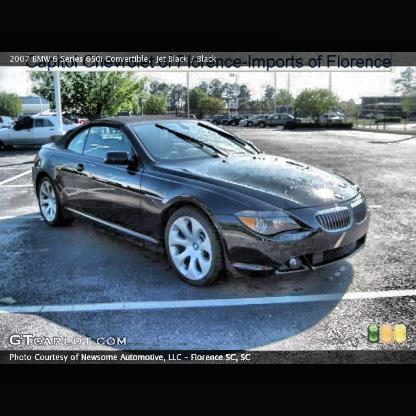BMW 6 Series Convertible 2007: (34, 117, 368, 286)
